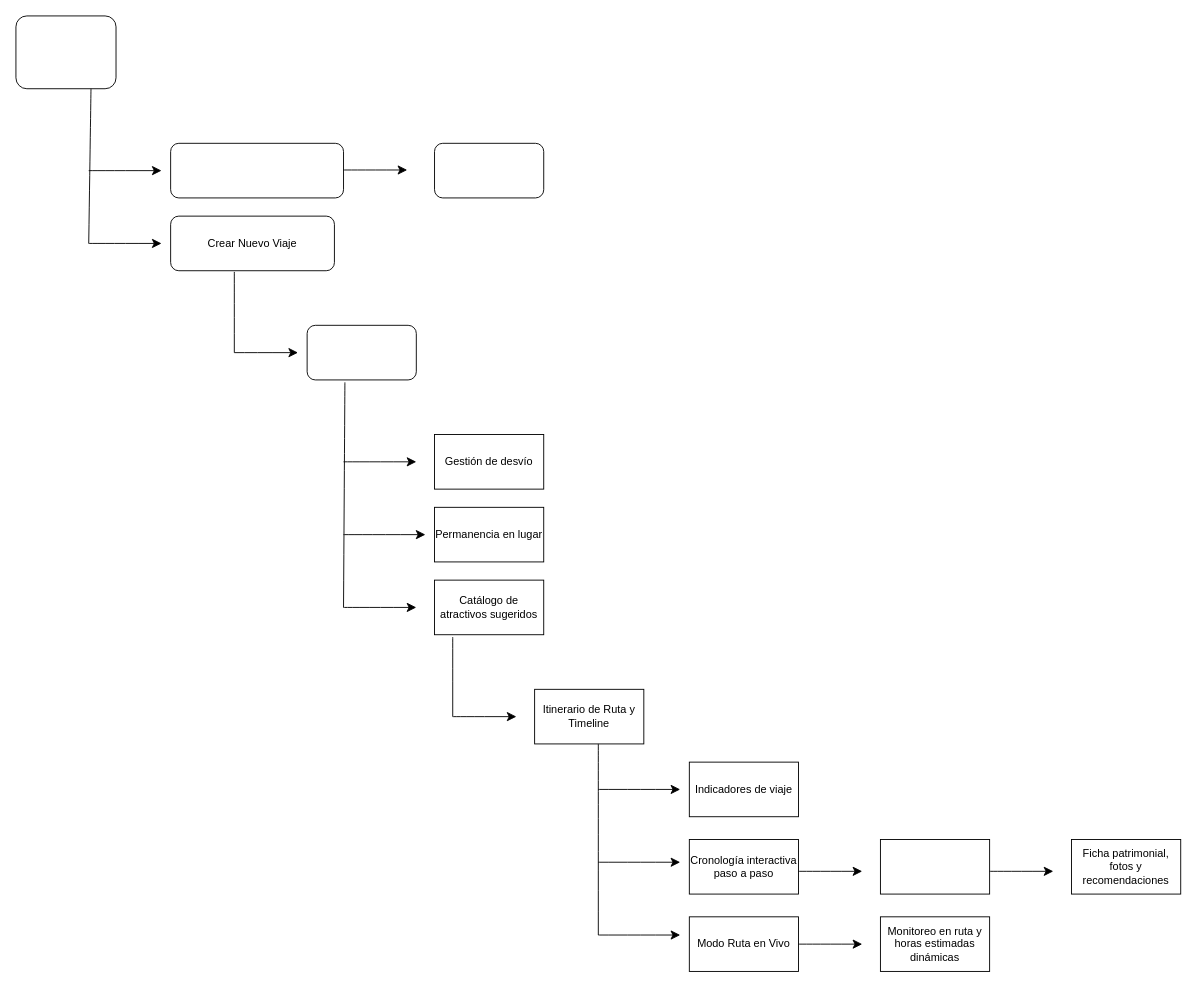
The diagram is 1197 pixels wide and 987 high, and some of its shapes have lost their labels. Here are the shapes that lost their labels. From the top down, the centre of each, then its label:
At point (65, 52): "RutaViajera".
At point (257, 170): "Mis Viajes Guardados".
At point (489, 170): "Historial y acceso a itinerarios activos".
At point (361, 352): "Configurar Paradas".
At point (935, 866): "Detalle de Parada".
